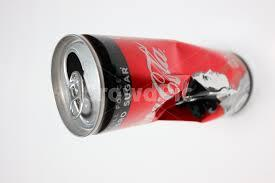can: (47, 18, 258, 139)
